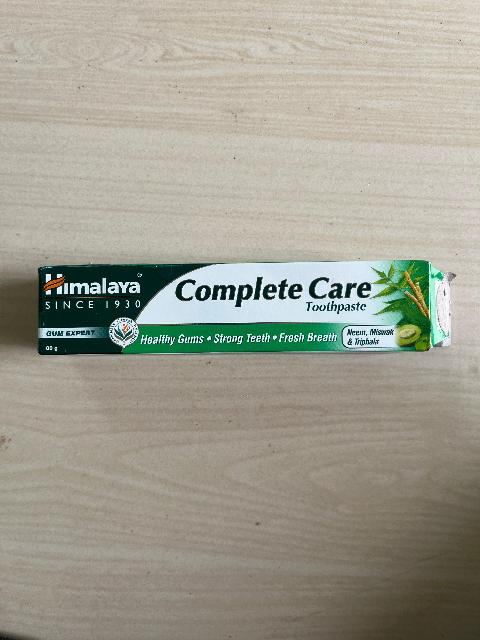himalaya toothpaste: (38, 267, 433, 352)
